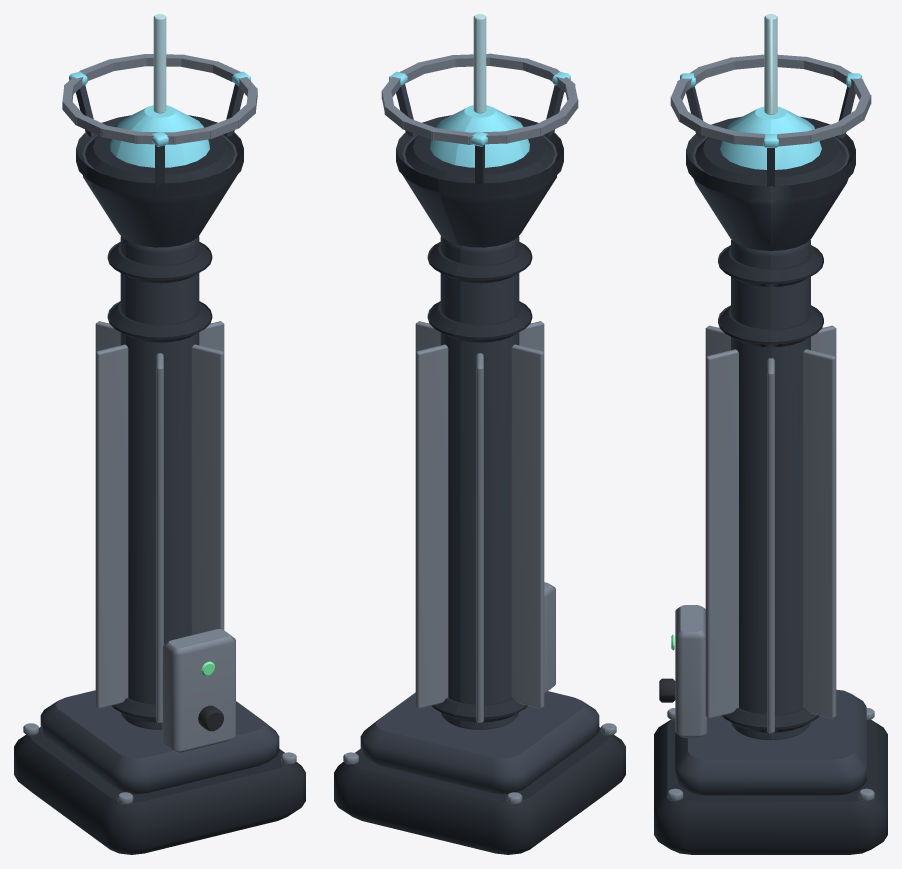
The model's file is projecteur_mur_holographique.glb.
3 views of the same model, side by side, from view 1: azimuth 30°, elevation 25°; view 2: azimuth 150°, elevation 25°; view 3: azimuth 270°, elevation 25° (orthographic).
Visible parts, largest first — view 1: pieces_emetteur.002, pieces_emetteur_clair.002, pieces_emetteur_bord.002, anneau_focal_emetteur_clair.002, holo_noyau_lentille.002, holo_noyau_holo_clair.002, anneau_focal_emetteur.002; view 2: pieces_emetteur.002, pieces_emetteur_clair.002, pieces_emetteur_bord.002, anneau_focal_emetteur_clair.002, holo_noyau_lentille.002, holo_noyau_holo_clair.002, anneau_focal_emetteur.002; view 3: pieces_emetteur.002, pieces_emetteur_clair.002, pieces_emetteur_bord.002, anneau_focal_emetteur_clair.002, holo_noyau_lentille.002, holo_noyau_holo_clair.002, anneau_focal_emetteur.002, anneau_focal_lentille.002.
Boxes of the visible parts, <box> form: pieces_emetteur.002: <box>40,135,279,794</box>; pieces_emetteur_clair.002: <box>23,321,296,804</box>; pieces_emetteur_bord.002: <box>14,115,305,854</box>; anneau_focal_emetteur_clair.002: <box>62,54,257,144</box>; holo_noyau_lentille.002: <box>110,105,209,167</box>; holo_noyau_holo_clair.002: <box>153,14,166,113</box>; anneau_focal_emetteur.002: <box>76,84,243,186</box>; pieces_emetteur.002: <box>360,135,599,794</box>; pieces_emetteur_clair.002: <box>343,321,616,804</box>; pieces_emetteur_bord.002: <box>334,115,625,854</box>; anneau_focal_emetteur_clair.002: <box>381,53,578,144</box>; holo_noyau_lentille.002: <box>430,105,529,167</box>; holo_noyau_holo_clair.002: <box>473,14,486,113</box>; anneau_focal_emetteur.002: <box>396,84,564,186</box>; pieces_emetteur.002: <box>675,136,866,795</box>; pieces_emetteur_clair.002: <box>667,325,874,801</box>; pieces_emetteur_bord.002: <box>654,116,887,854</box>; anneau_focal_emetteur_clair.002: <box>670,54,871,146</box>; holo_noyau_lentille.002: <box>720,106,821,169</box>; holo_noyau_holo_clair.002: <box>764,14,777,114</box>; anneau_focal_emetteur.002: <box>686,86,855,186</box>; anneau_focal_lentille.002: <box>680,73,861,147</box>.
Bounding box in the file's own units: 0.44 × 1.65 × 0.44.
